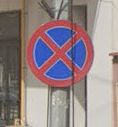oprirea_interzisa: (26, 19, 94, 88)
